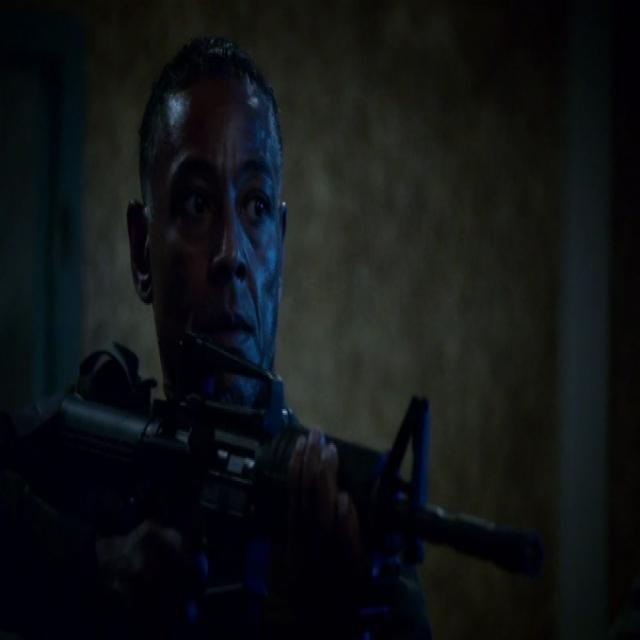rifle: (55, 331, 545, 630)
